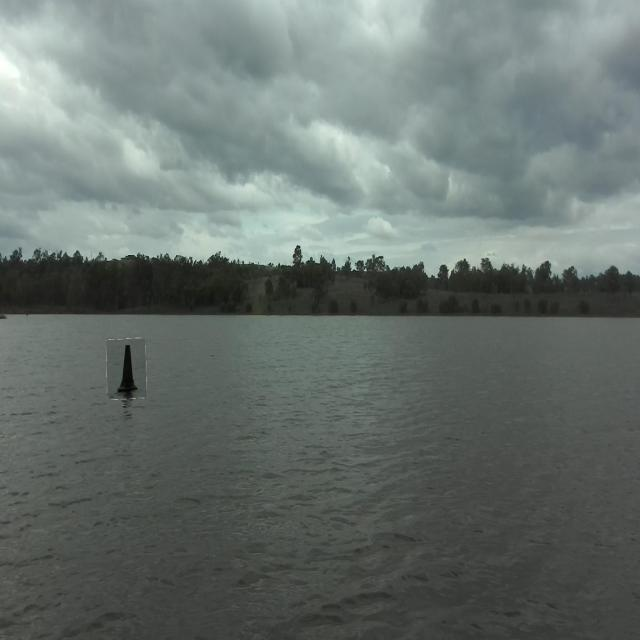Black_Buoy: (105, 336, 152, 405)
